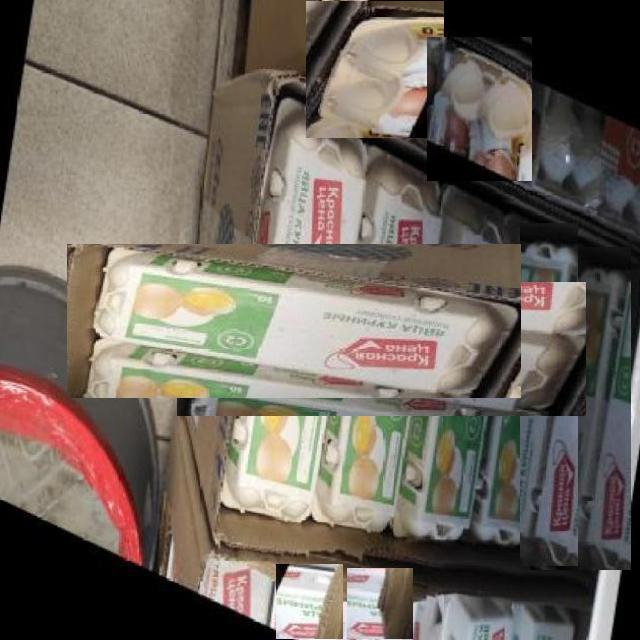Egg: (67, 244, 521, 398), (177, 283, 586, 416), (395, 186, 520, 570), (472, 222, 578, 566), (529, 247, 631, 570), (305, 1, 444, 138), (426, 37, 532, 181), (196, 542, 274, 625), (275, 565, 343, 640), (346, 568, 413, 640)
